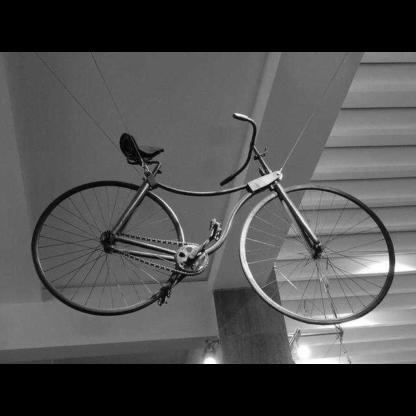Bicycle: (16, 105, 402, 352)
